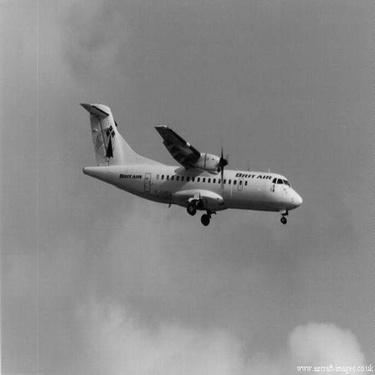airplane: (63, 94, 306, 228)
